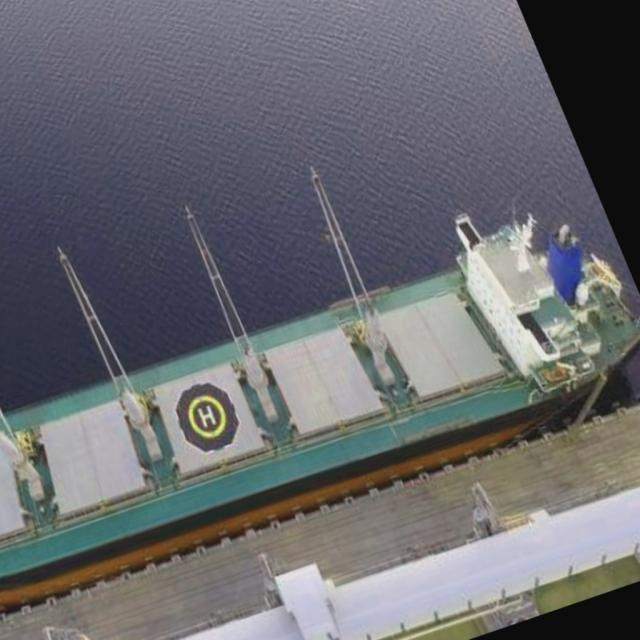helipad: (186, 392, 227, 438)
